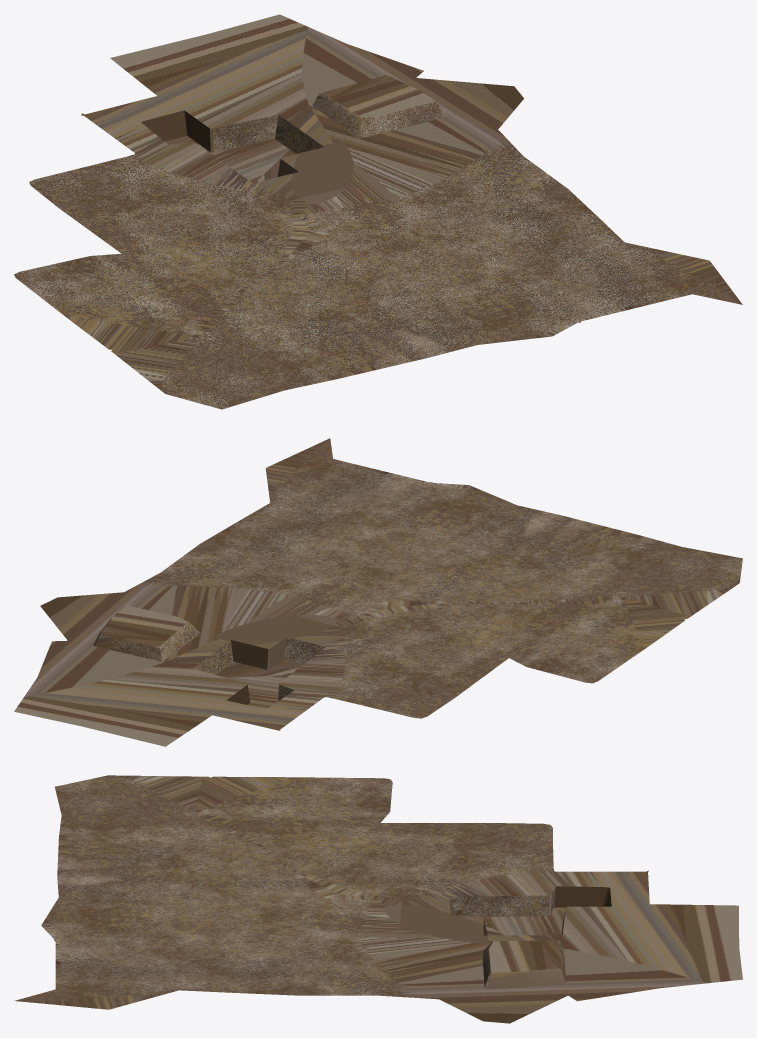
Rendered from suelo_t_2.obj.
3 views of the same model, one above another, from view 1: azimuth 30°, elevation 25°; view 2: azimuth 150°, elevation 25°; view 3: azimuth 270°, elevation 25° (orthographic). The views are drawn at different scales.
Visible parts, largest first — view 1: suelo_t_2; view 2: suelo_t_2; view 3: suelo_t_2.
Boxes of the visible parts, <box> form: suelo_t_2: <box>14,14,742,409</box>; suelo_t_2: <box>14,438,742,746</box>; suelo_t_2: <box>14,775,742,1023</box>.
Size of the model in its own units: 250 by 15.2 by 311.
